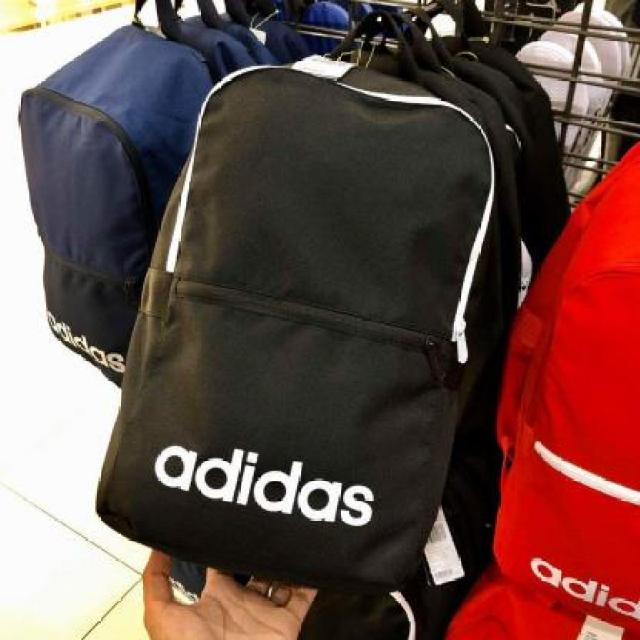Bag: (63, 0, 539, 635)
